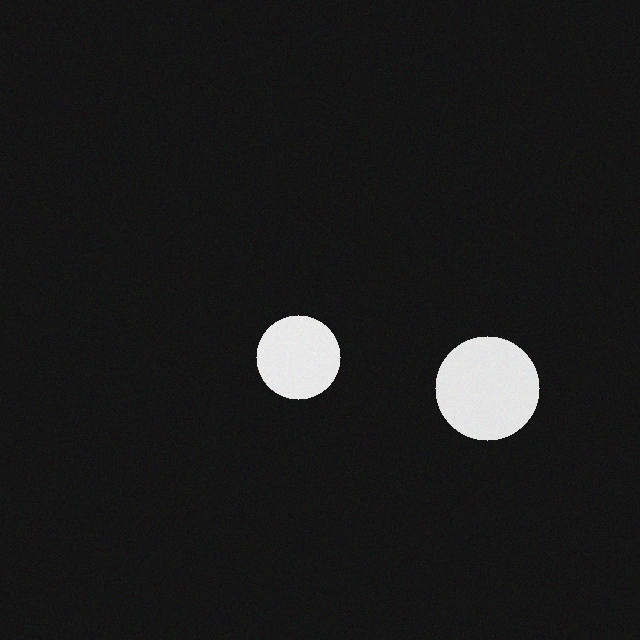circle: (446, 330, 550, 434), (267, 309, 351, 393)
